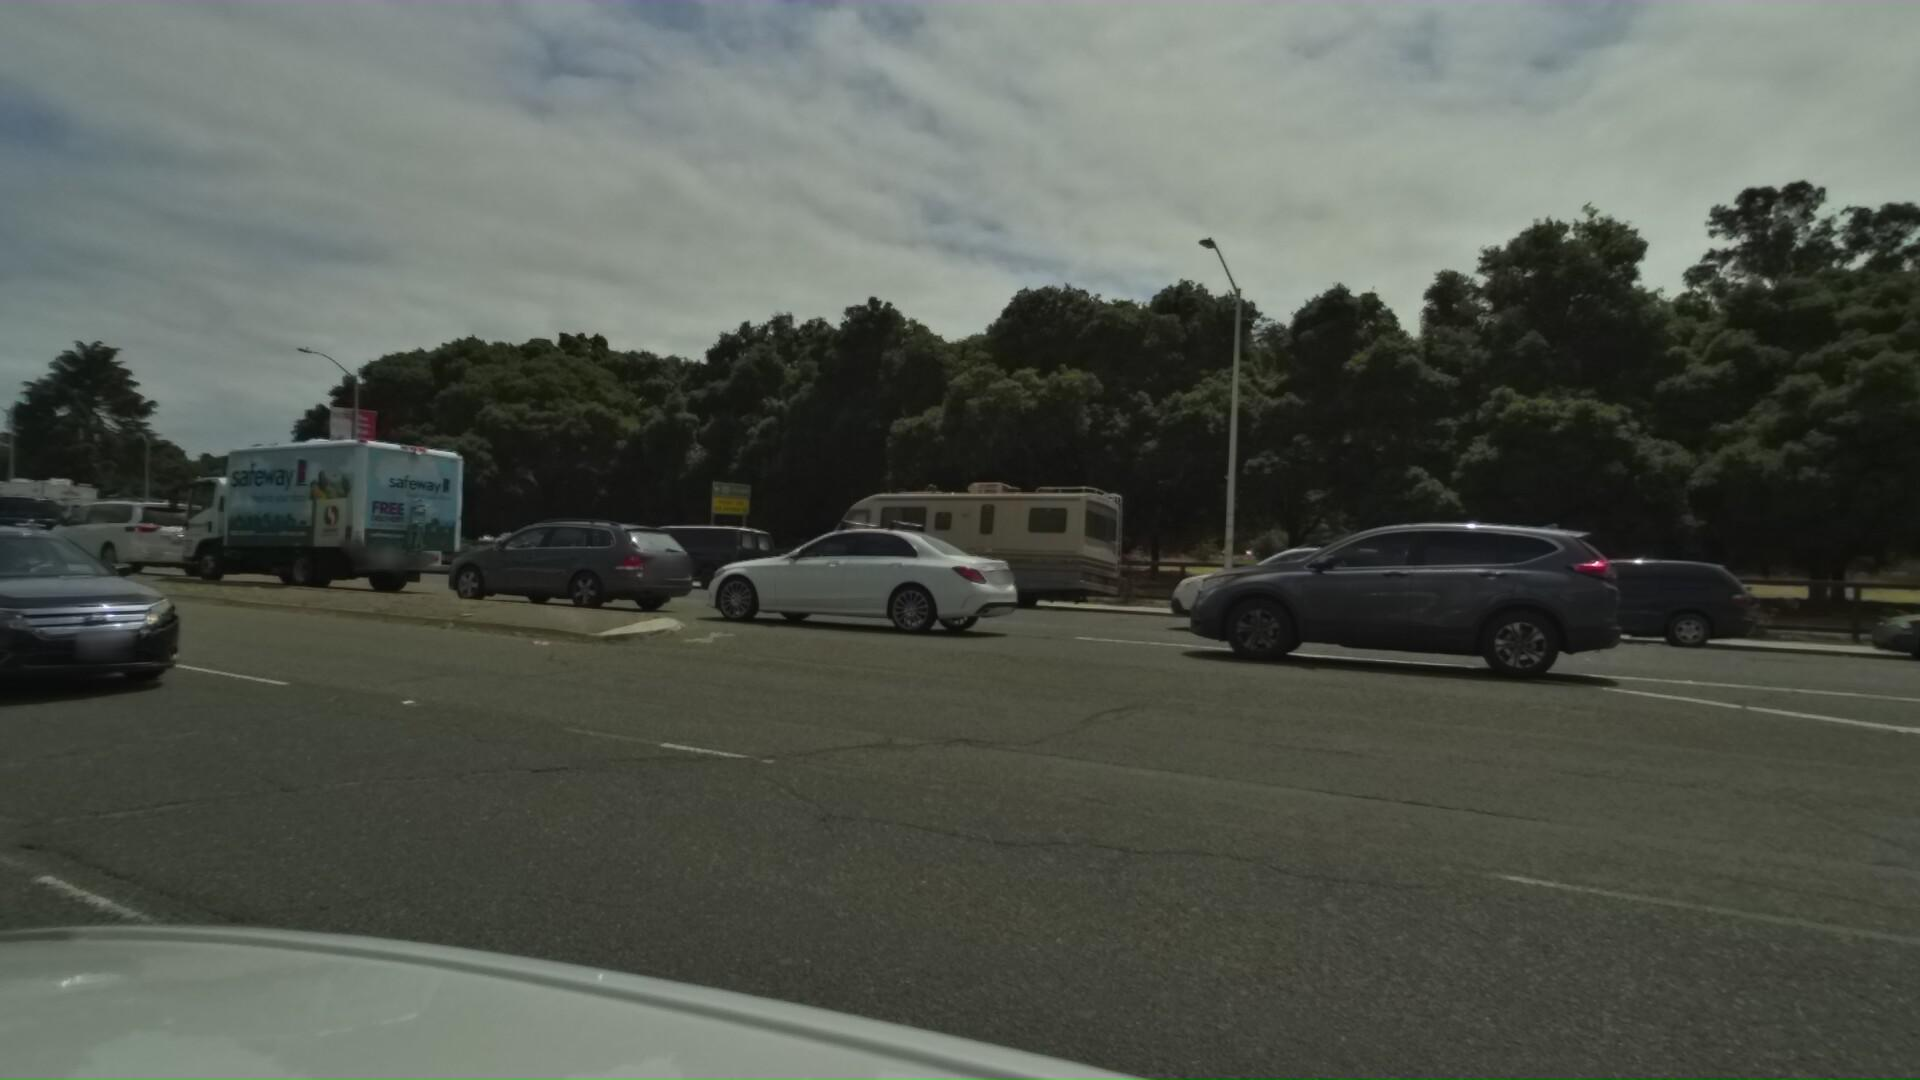car: (1124, 512, 1575, 694), (0, 502, 249, 713), (665, 496, 1002, 647), (1102, 531, 1403, 647), (1425, 555, 1730, 661), (398, 512, 691, 618), (18, 497, 214, 568), (1817, 578, 1920, 690), (605, 524, 773, 589), (4, 489, 124, 534), (0, 487, 51, 589), (0, 509, 57, 572)
other_vehicle: (796, 481, 1114, 609), (261, 479, 454, 568), (0, 473, 103, 546)
truck: (152, 433, 469, 593)
